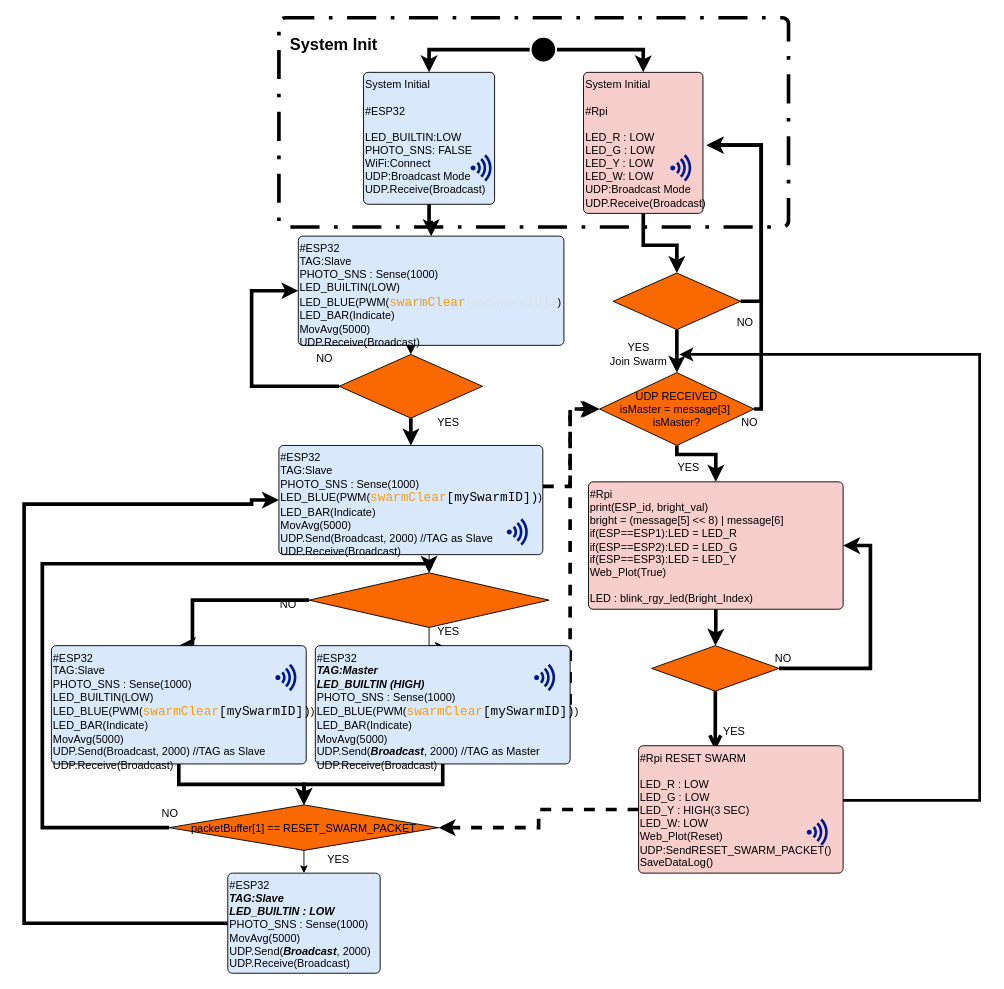
The diagram is 1004 pixels wide and 989 high, and some of its shapes have lost their labels. The centre of each missing label's shape, as x and y in pixels:
"BTN Pressed" goes at (x=715, y=668).
"Button Pressed?" goes at (x=676, y=301).
"Network silent ≥ 100 ms? && Sns Time >= 5000?" goes at (x=410, y=386).
"swarmClear[mySwarmID] >= swarmClear[i]" goes at (x=428, y=599).
